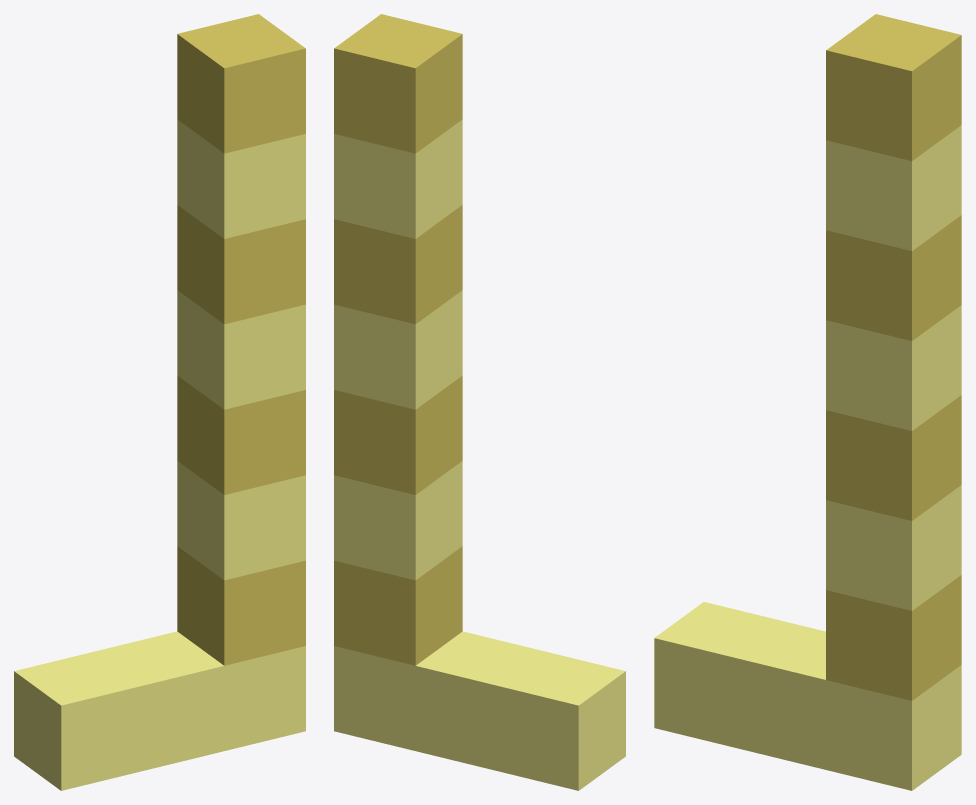
The model's file is YellowHouseParts-29.obj.
The picture shows the model from 3 angles, left to right: view 1: azimuth 30°, elevation 25°; view 2: azimuth 150°, elevation 25°; view 3: azimuth 330°, elevation 25°; orthographic projection. The views are drawn at different scales.
Bounding box in the file's own units: 0.3 × 0.8 × 0.1.
1 material, 1 textured.
